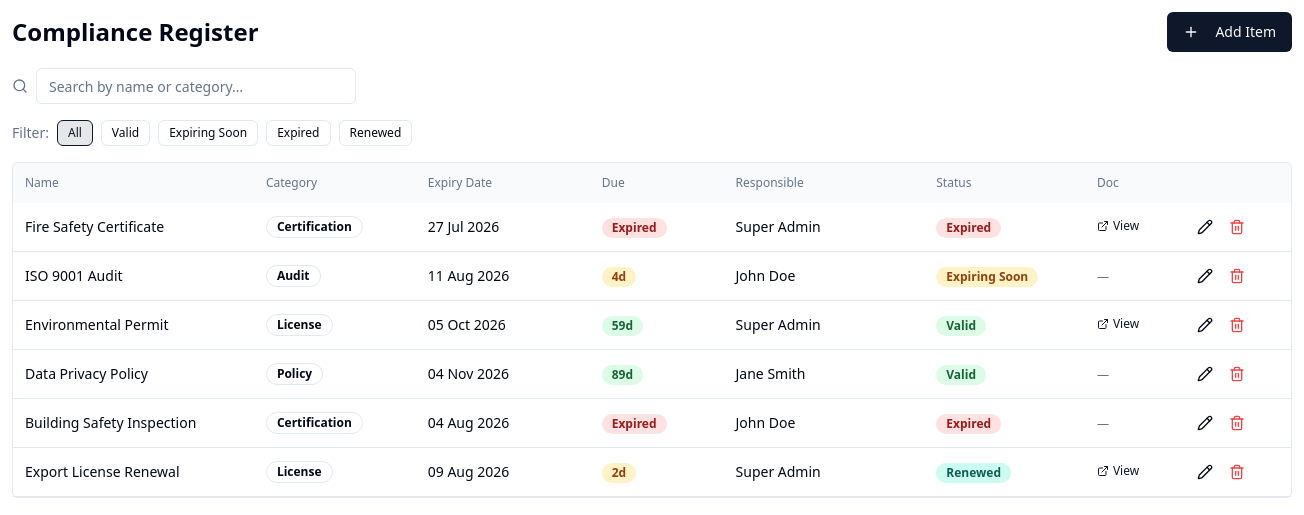
Test: CompliancePage › filters by status
Expected: the row with test id "compliance-row-comp-1" is shown, x1=13 y1=203 x2=1291 y2=252
// Click "expired" filter
Click the button with test id "status-filter-expired" at {"x": 298, "y": 133}, box x1=266 y1=120 x2=330 y2=146
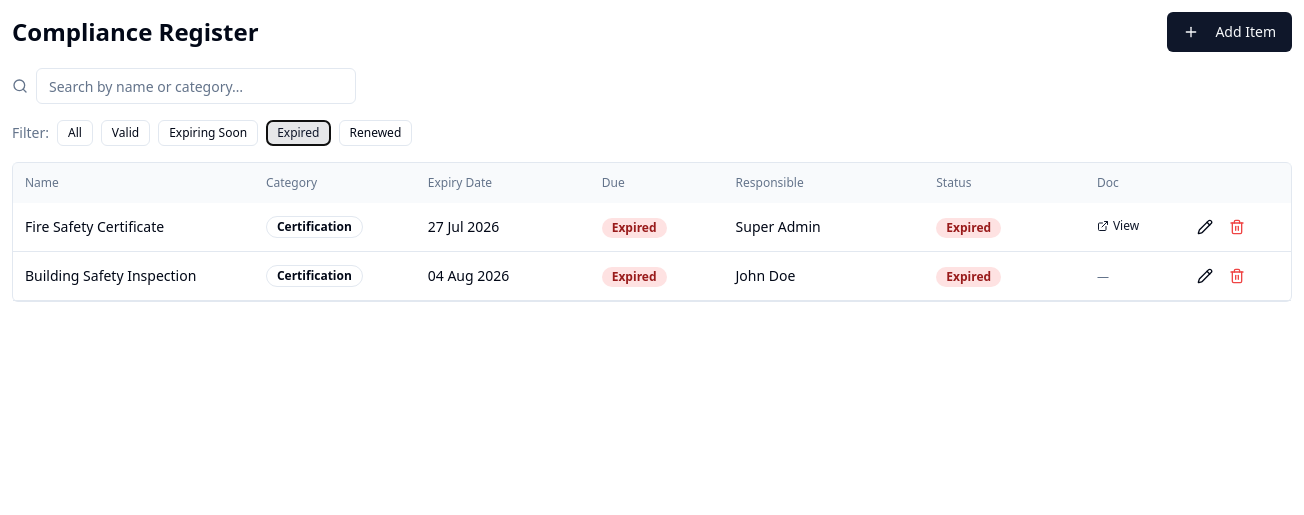
Expected: the row with test id "compliance-row-comp-1" is shown, x1=13 y1=203 x2=1291 y2=252
Expected: the row with test id "compliance-row-comp-3" is gone
